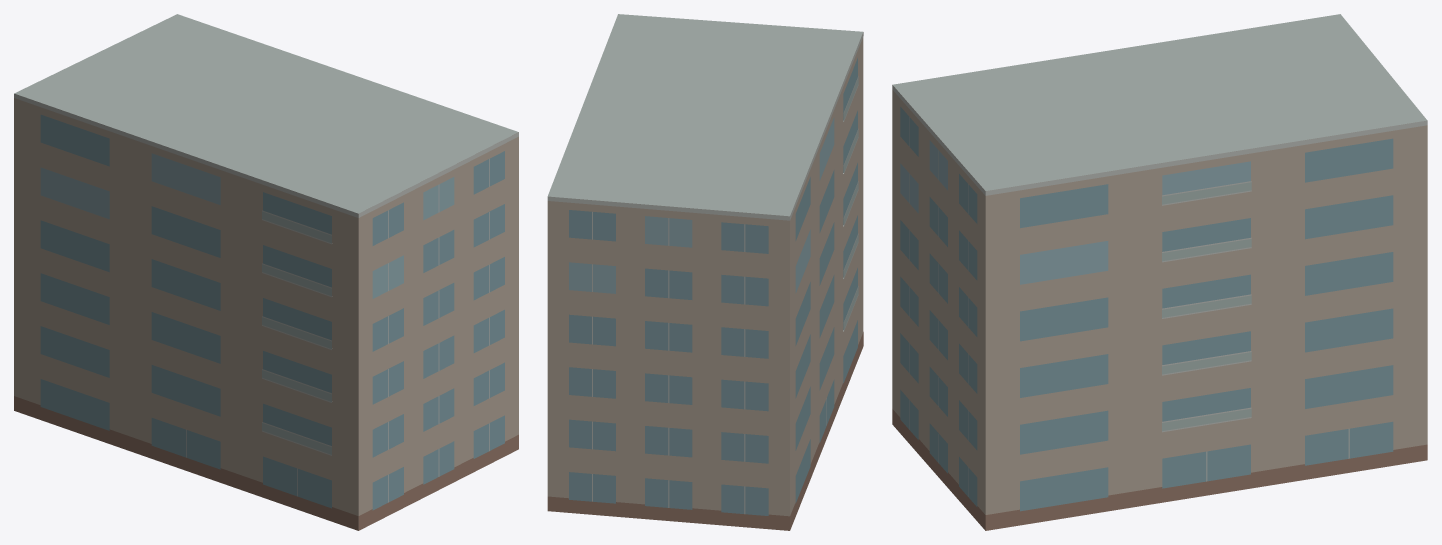
File: survey-upis-33003775.glb
3 renders of one model, left to right at view 1: azimuth 30°, elevation 25°; view 2: azimuth 150°, elevation 25°; view 3: azimuth 270°, elevation 25°, orthographic. The views are drawn at different scales.
Parts seen in each view (by area): view 1: survey-upis-33003775.tmp; view 2: survey-upis-33003775.tmp; view 3: survey-upis-33003775.tmp.
Boxes of the visible parts, bbox=[...] form: survey-upis-33003775.tmp: bbox=[14, 14, 518, 530]; survey-upis-33003775.tmp: bbox=[547, 14, 863, 530]; survey-upis-33003775.tmp: bbox=[892, 14, 1427, 530].
Size of the model in its own units: 19.47 by 17.4 by 24.85.
